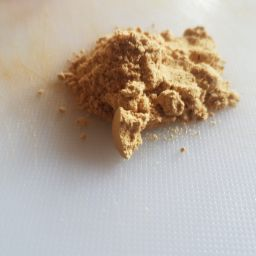Ginger powder: (17, 29, 243, 161), (96, 23, 244, 132), (116, 47, 212, 105)
